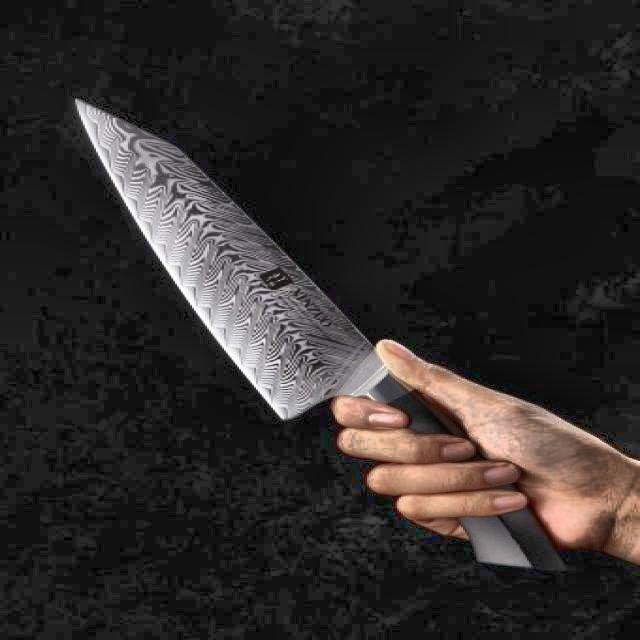knife: (70, 97, 556, 572)
